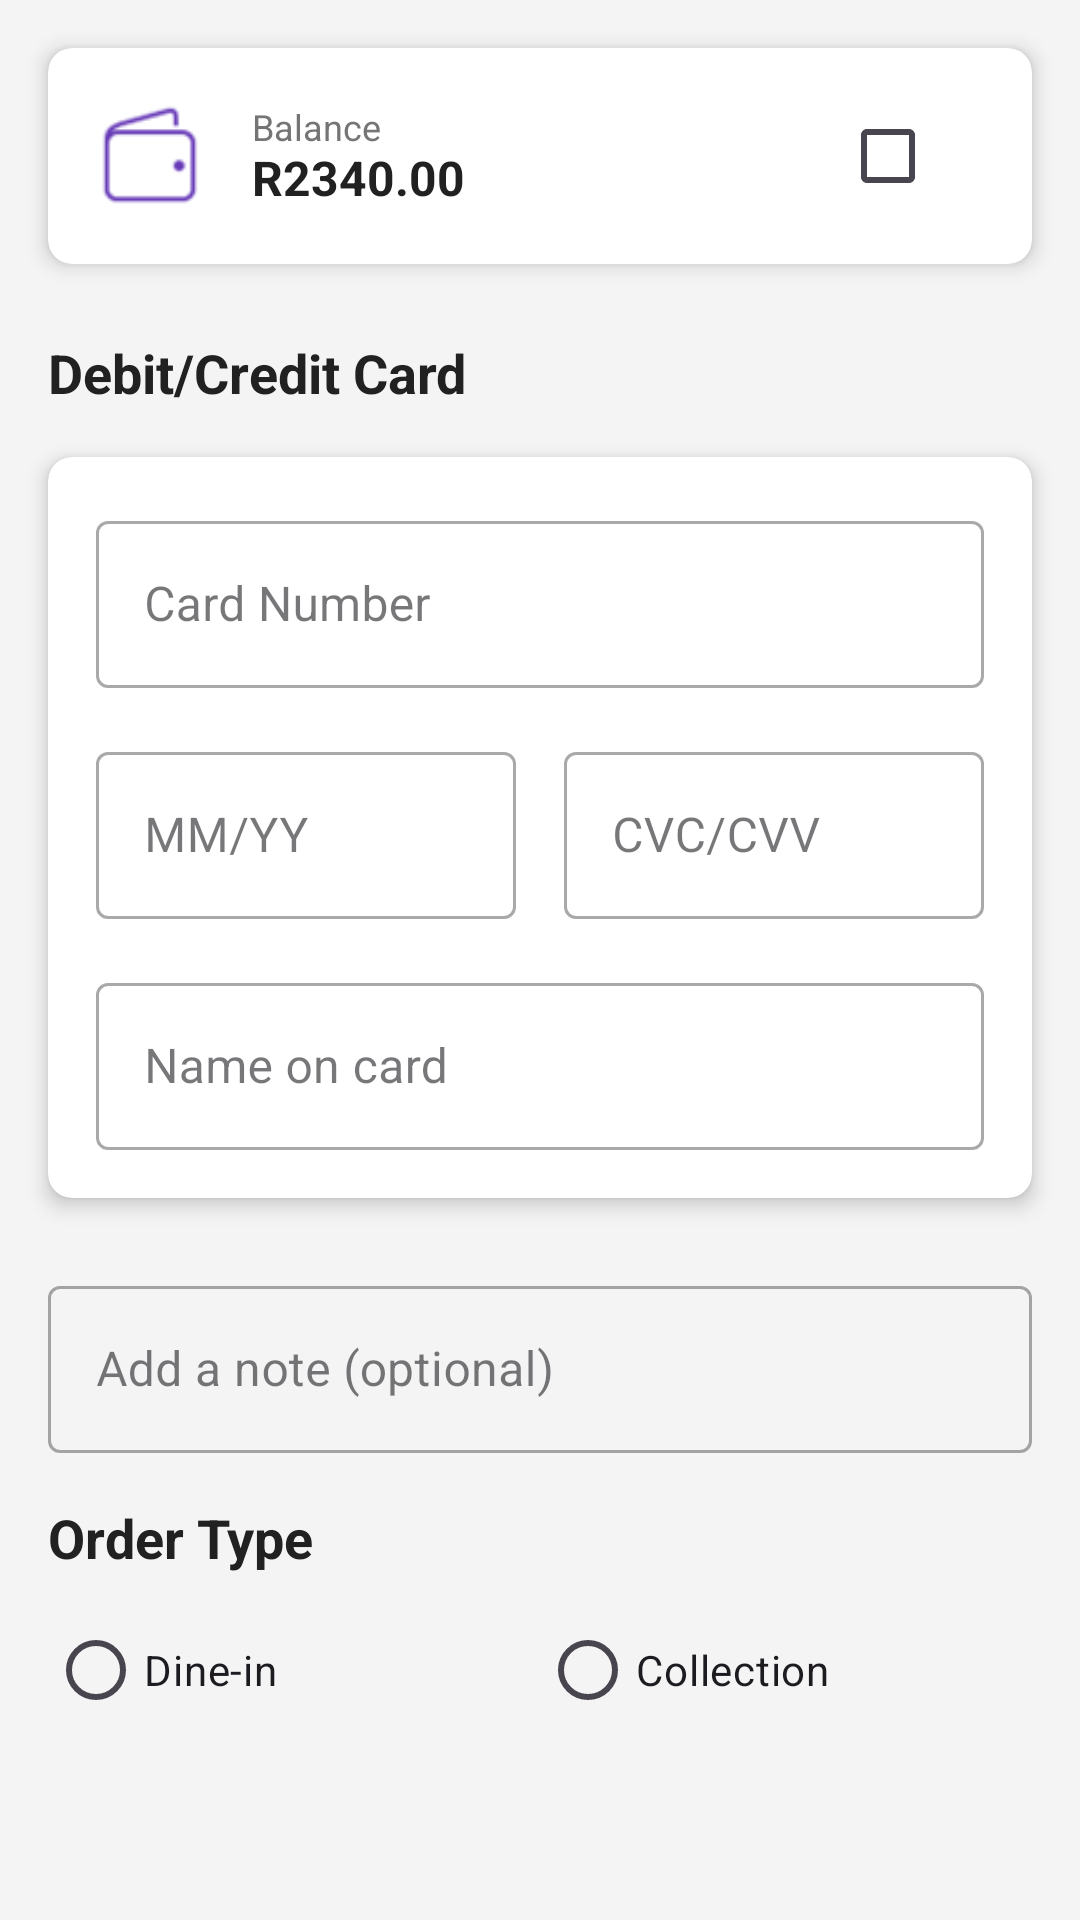

Icon click points for this 1080w x 1920h phone screenshot, format (x=x, y=y):
wallet: (x=150, y=155)
